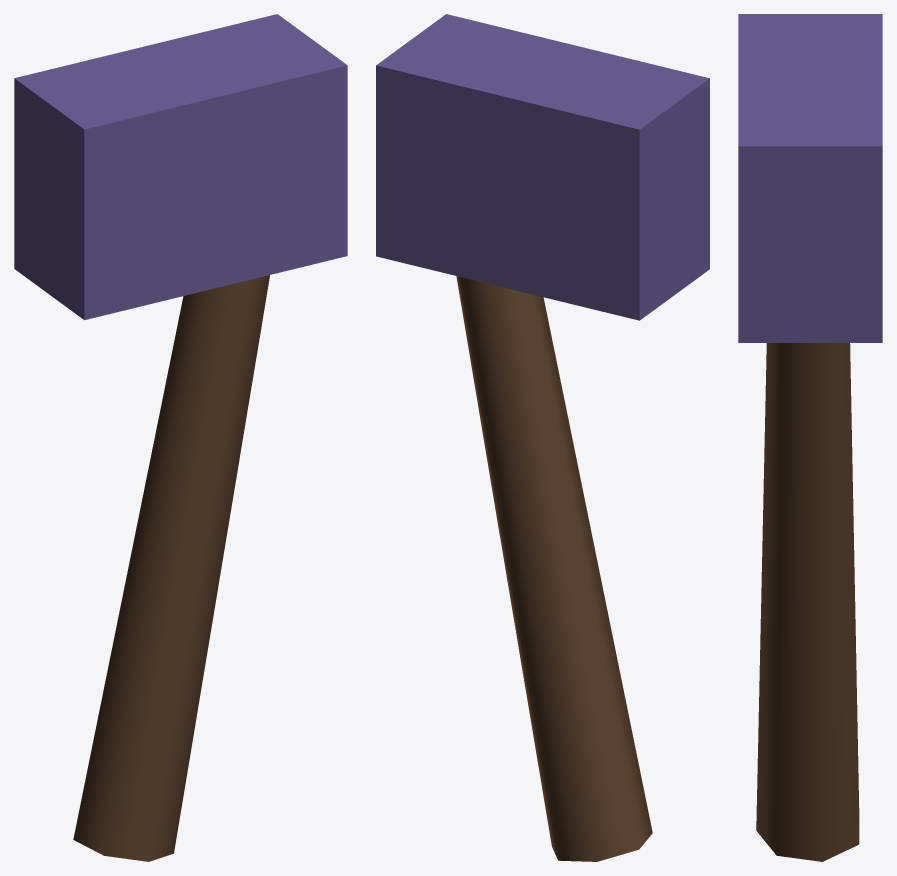
File: chief_role.glb
3 renders of one model, left to right at view 1: azimuth 30°, elevation 25°; view 2: azimuth 150°, elevation 25°; view 3: azimuth 270°, elevation 25°, orthographic. The views are drawn at different scales.
Parts seen in each view (by area): view 1: role_symbol, role_handle; view 2: role_symbol, role_handle; view 3: role_handle, role_symbol.
Boxes of the visible parts, bbox=[...] form: role_symbol: bbox=[14, 14, 347, 320]; role_handle: bbox=[73, 275, 269, 861]; role_symbol: bbox=[376, 14, 709, 320]; role_handle: bbox=[456, 276, 652, 861]; role_handle: bbox=[756, 343, 859, 861]; role_symbol: bbox=[738, 14, 882, 342].
Bounding box in the file's own units: 0.26 × 0.7229 × 0.12.
